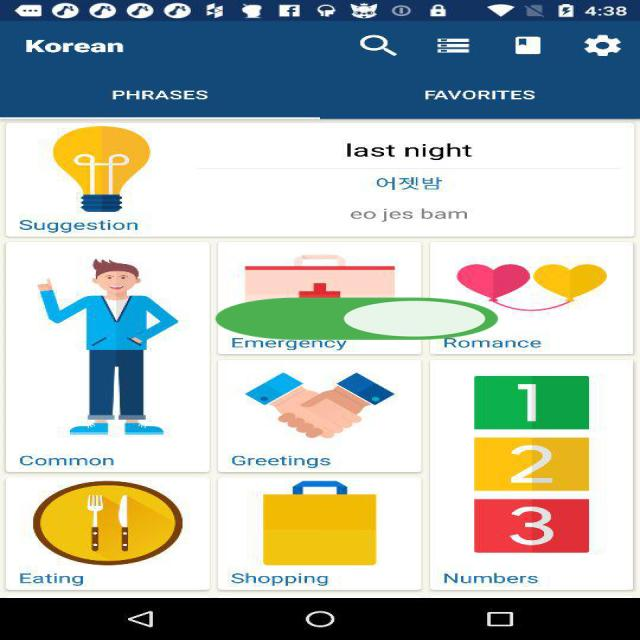social proof: (202, 282, 510, 359)
